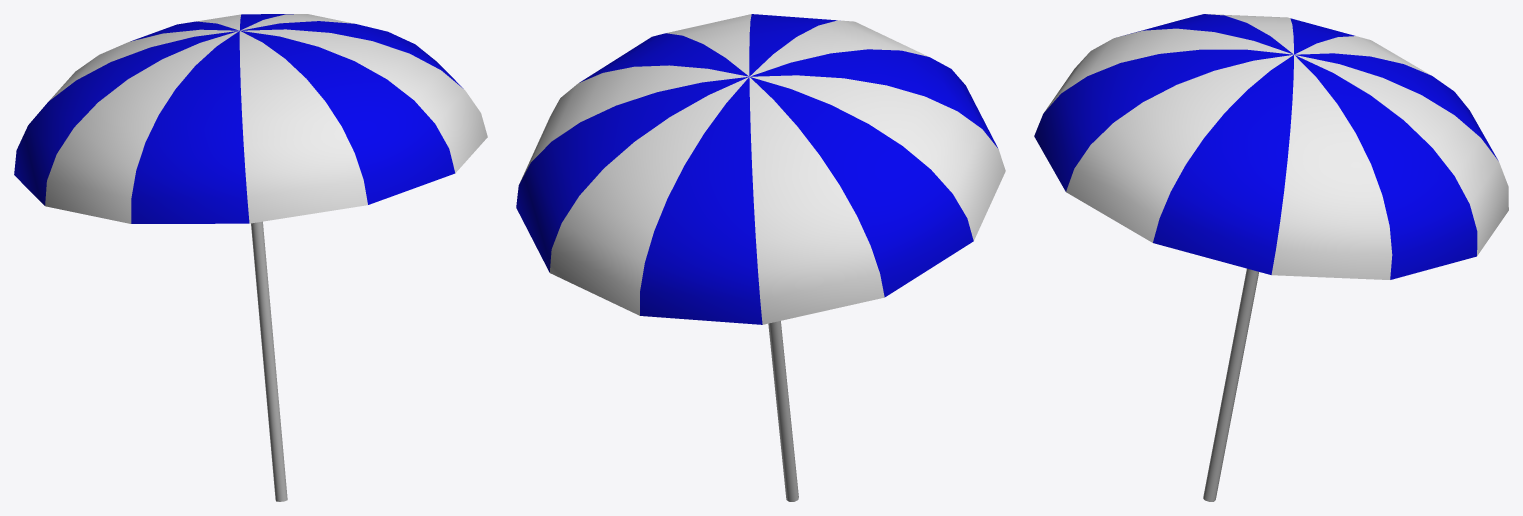
The model's file is parasol blauw2.fbx.
3 views of the same model, side by side, from view 1: azimuth 30°, elevation 25°; view 2: azimuth 150°, elevation 25°; view 3: azimuth 270°, elevation 25° (orthographic). The views are drawn at different scales.
Visible parts, largest first — view 1: Cylinder; view 2: Cylinder; view 3: Cylinder.
Part boxes in pixels (bbox=[...]): Cylinder: bbox=[14, 14, 487, 501]; Cylinder: bbox=[516, 14, 1005, 501]; Cylinder: bbox=[1034, 14, 1508, 501].
Bounding box in the file's own units: 3.7 × 3.82 × 3.65.
